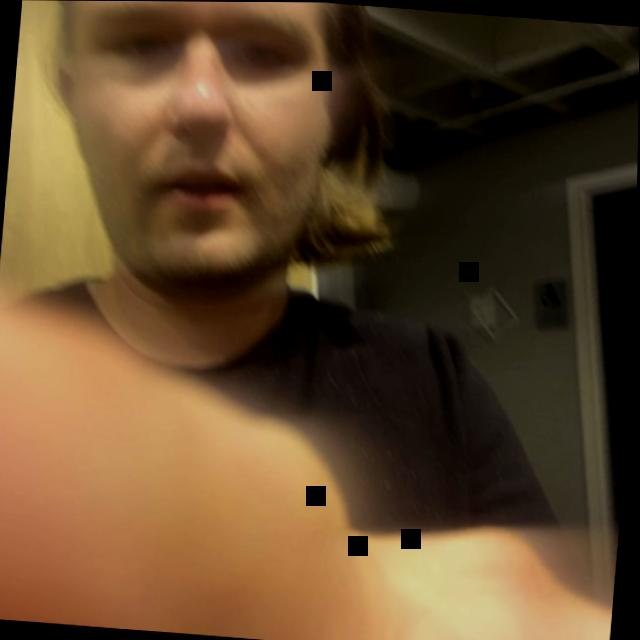NO-Mask: (14, 0, 388, 322)
